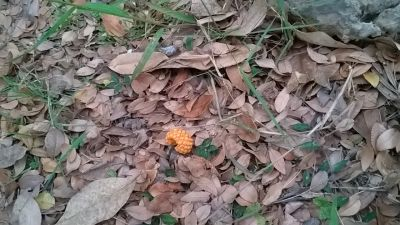eggs: (163, 128, 196, 154)
